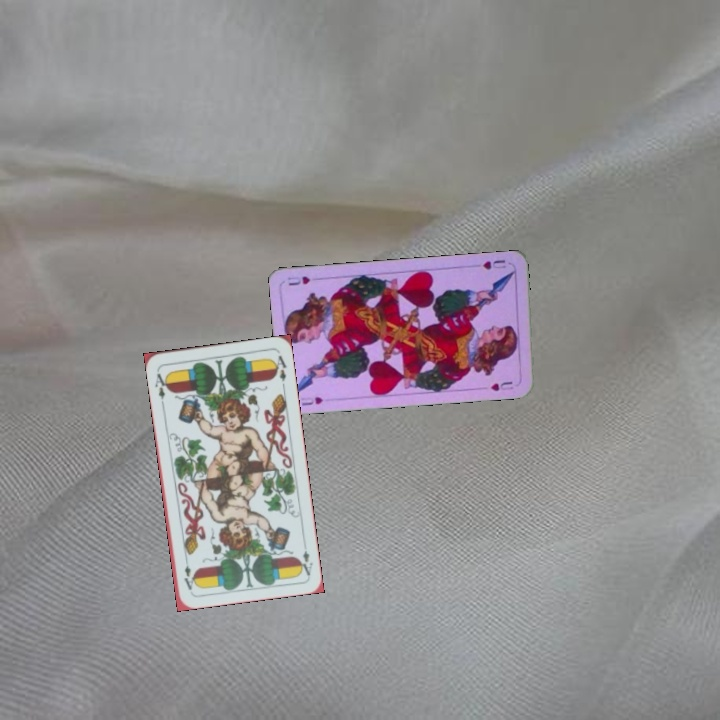EA: (151, 366, 171, 407), (295, 546, 315, 578)
HU: (479, 256, 508, 272), (297, 393, 326, 408)
